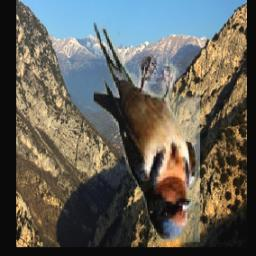Swallow: (94, 20, 200, 242)
